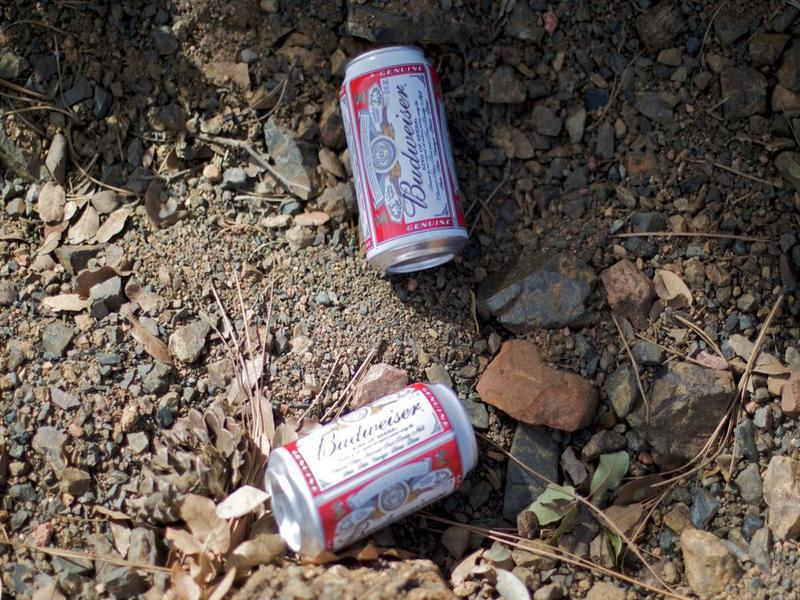can: (260, 380, 480, 558), (331, 42, 479, 275)
leaf: (180, 492, 237, 556), (214, 474, 270, 522)
